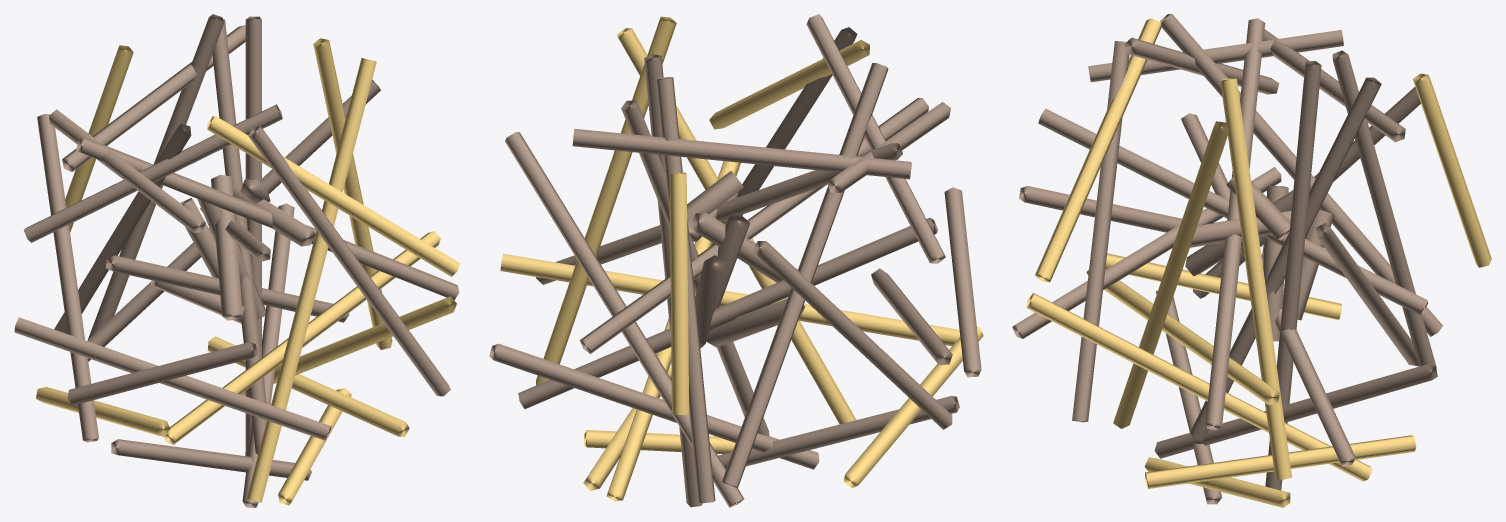
Rendered from tumbleweed.glb.
3 renders of one model, left to right at view 1: azimuth 30°, elevation 25°; view 2: azimuth 150°, elevation 25°; view 3: azimuth 270°, elevation 25°, orthographic. The views are drawn at different scales.
Parts seen in each view (by area): view 1: Twigs; view 2: Twigs; view 3: Twigs.
Part boxes in pixels (x1=…): Twigs: x1=14, y1=14, x2=460, y2=507; Twigs: x1=489, y1=14, x2=983, y2=507; Twigs: x1=1012, y1=14, x2=1491, y2=507.
Size of the model in its own units: 0.6222 by 0.6 by 0.5925.
